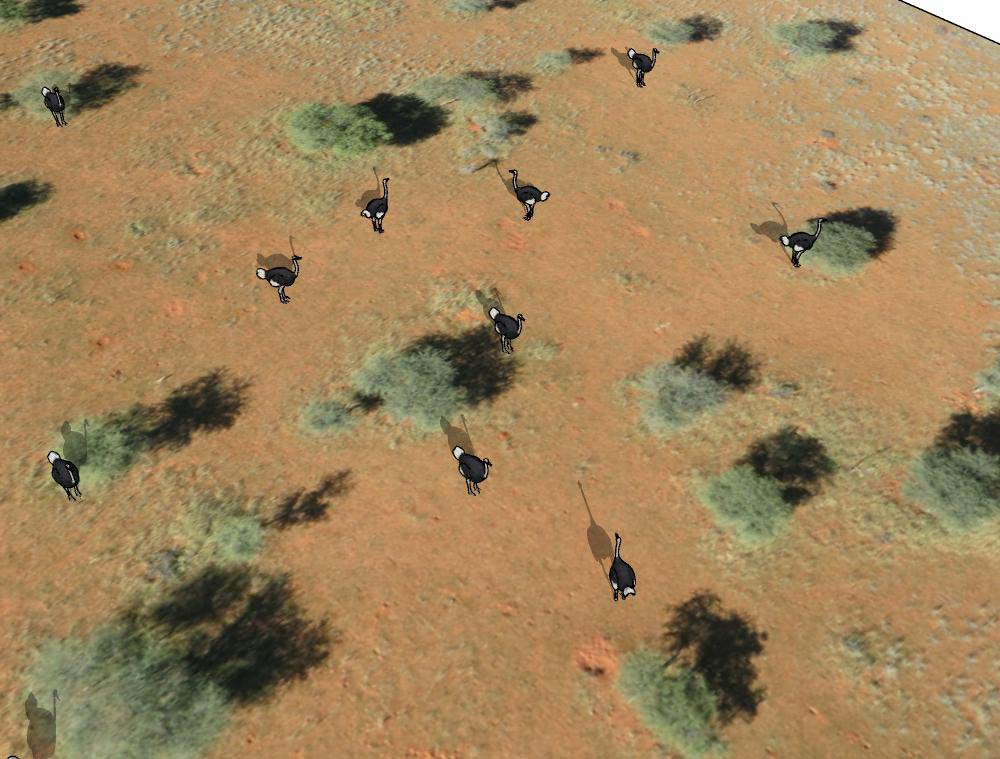springbok: (251, 251, 307, 307), (604, 522, 640, 606), (779, 213, 830, 269), (501, 164, 551, 221), (483, 302, 527, 359), (448, 443, 492, 498), (42, 447, 85, 499), (360, 176, 395, 234), (37, 78, 76, 129), (624, 44, 665, 89)
